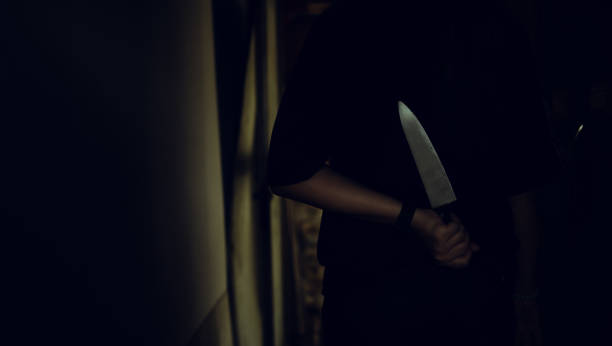knife: (394, 98, 460, 211)
